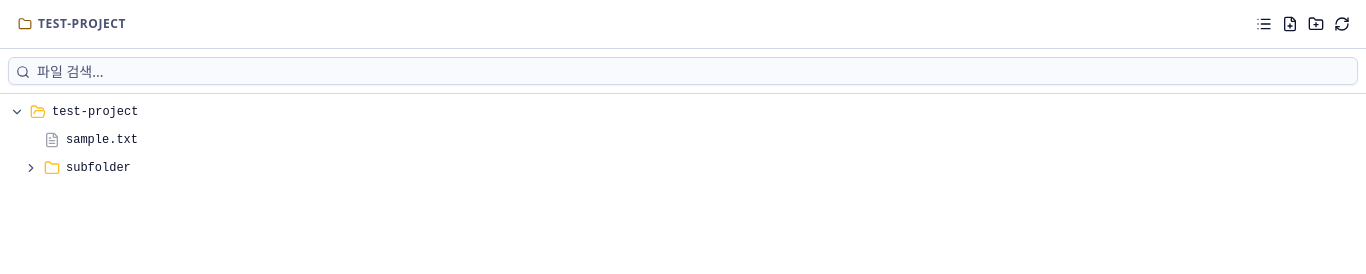
Test: FileTree Context Menus › renders file context menu items on right clicking a file
Right-click the text "sample.txt" at coordinates (102, 140), box [66,132,138,148]
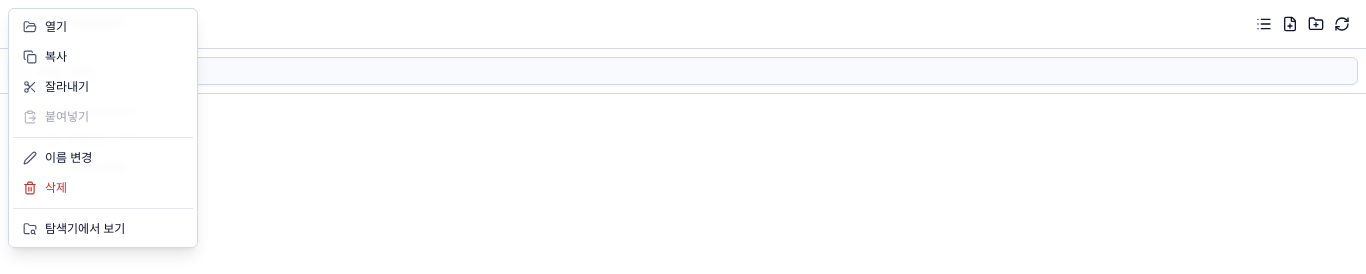
Check: the button "열기" is shown, box [13,13,193,41]
Check: the button "복사" is shown, box [13,43,193,71]
Check: the button "잘라내기" is shown, box [13,73,193,101]
